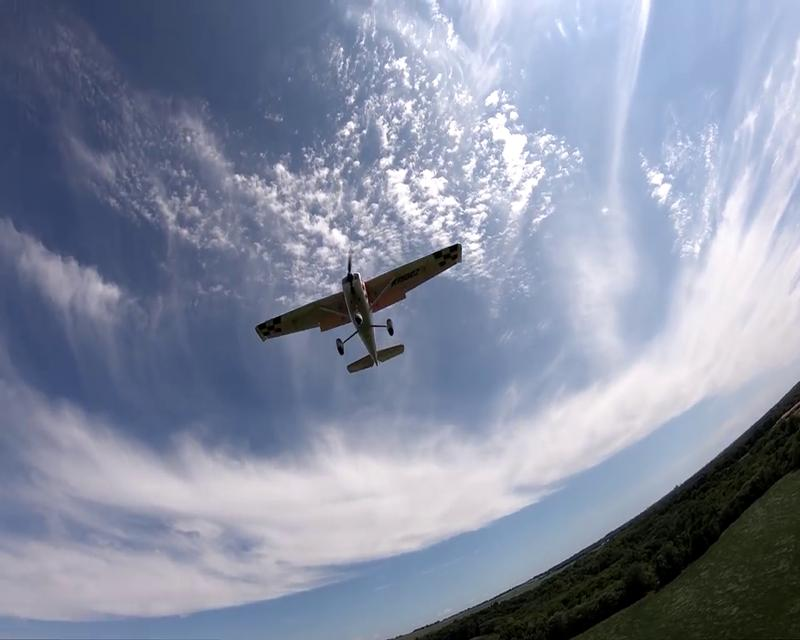UAV: (254, 244, 462, 373)
